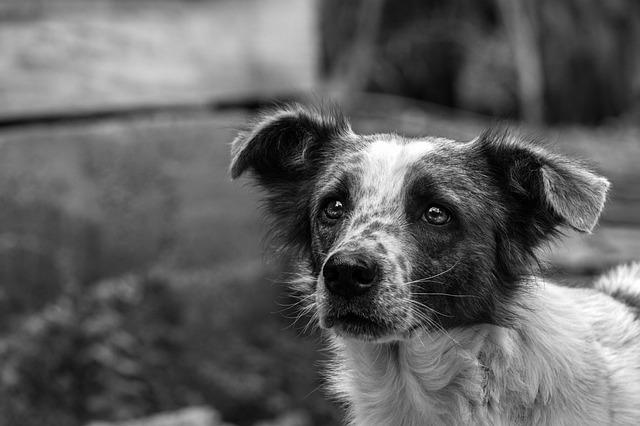Non_Gorille: (160, 32, 640, 426)
